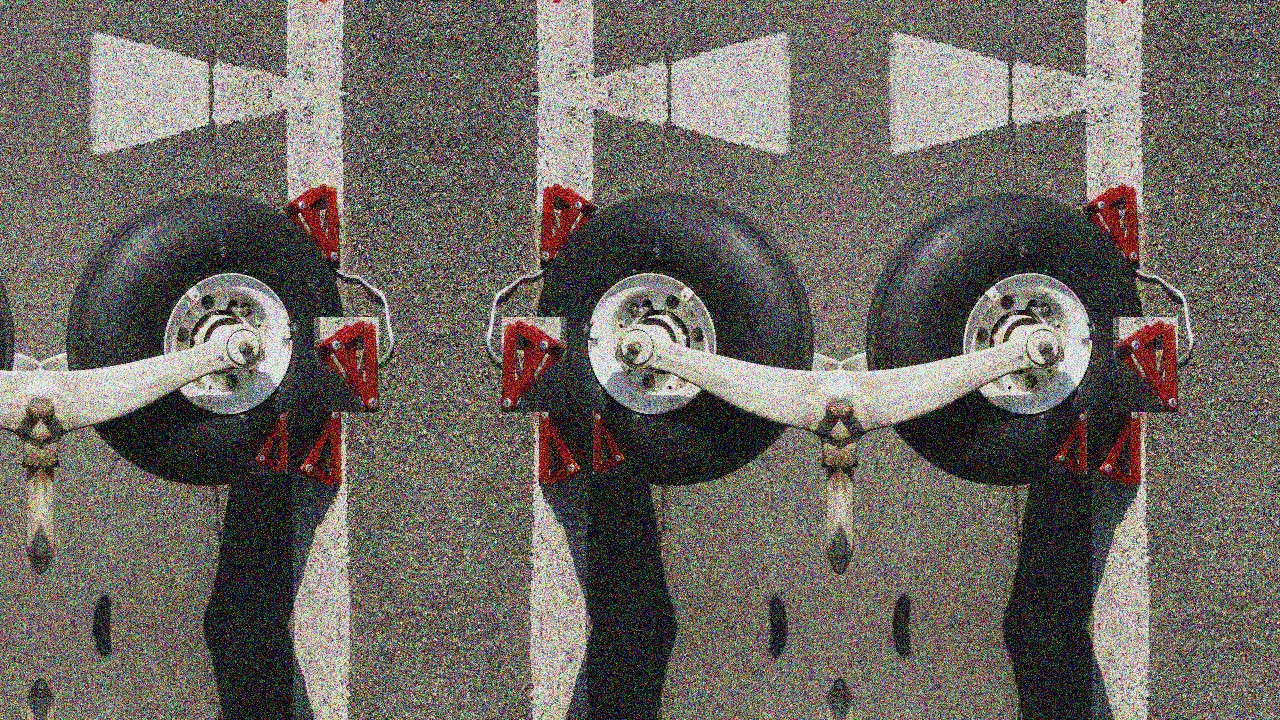chock: (313, 317, 378, 412), (502, 317, 567, 412), (1113, 317, 1178, 412), (282, 181, 339, 264), (541, 181, 598, 264), (1082, 181, 1139, 264), (290, 408, 341, 489), (539, 408, 590, 489), (1090, 408, 1141, 489), (247, 411, 287, 474), (593, 411, 633, 474), (1047, 411, 1087, 474), (282, 0, 339, 6), (541, 0, 598, 6), (1082, 0, 1139, 6)
wheel: (66, 194, 336, 477), (544, 194, 814, 477), (866, 194, 1136, 477), (0, 194, 14, 477)
